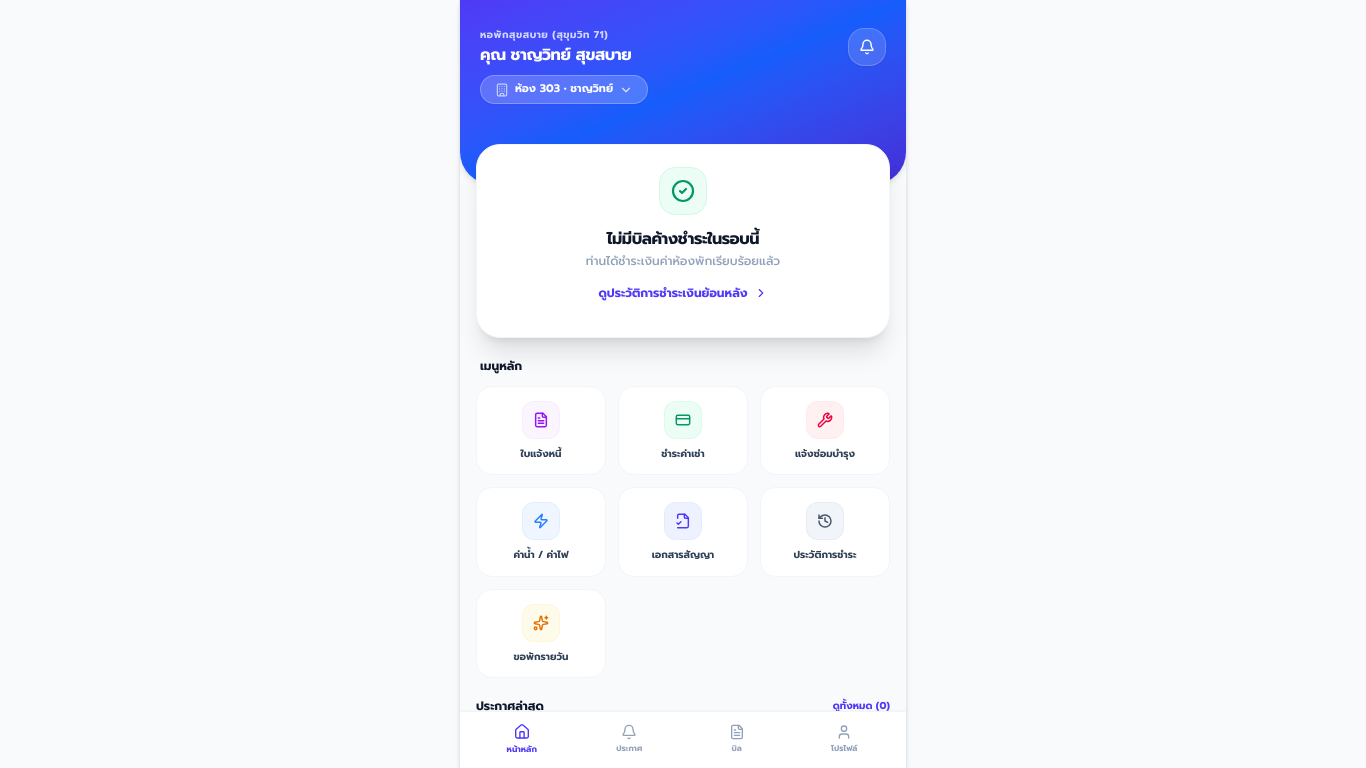
Test: Tenant Portal Phase 2: Smart Single-Tab Add Room & Multi-Room Workflow › clicking room badge opens Room Switcher modal with rooms list and "เช่าห้องพักเพิ่ม" button
Click the button "ห้อง 303 • ชาญวิทย์". click: (564, 90)
box: [480,75,648,104]
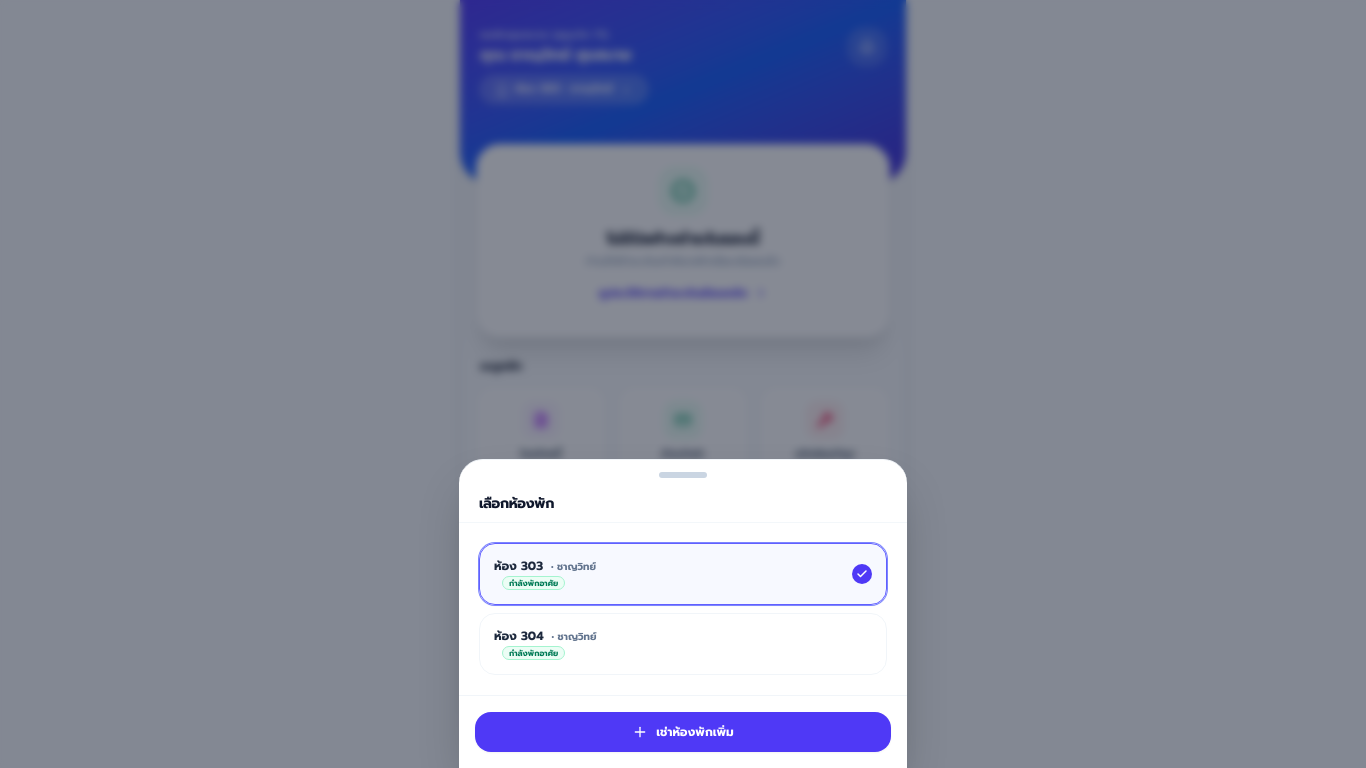
Check: the heading "เลือกห้องพัก" is shown, box [479,494,554,514]
Check: the text "เช่าห้องพักเพิ่ม" is shown, box [656,724,734,740]
